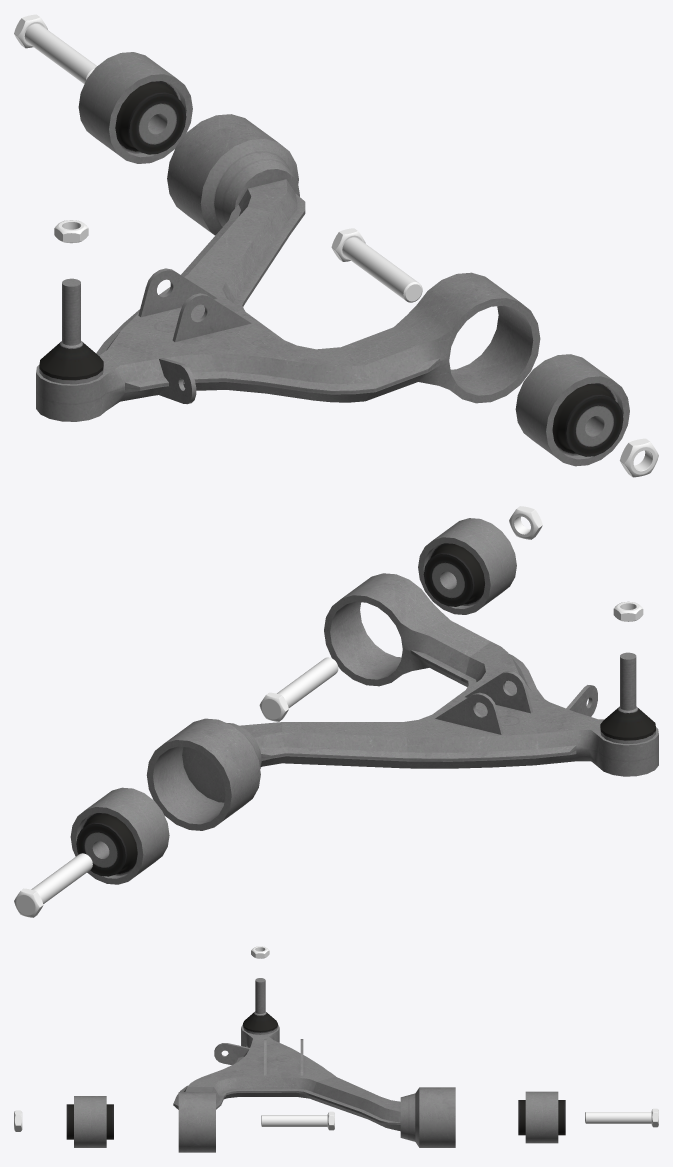
The model's file is conBot.glb.
3 views of the same model, one above another, from view 1: azimuth 30°, elevation 25°; view 2: azimuth 150°, elevation 25°; view 3: azimuth 270°, elevation 25° (orthographic). The views are drawn at different scales.
Visible parts, largest first — view 1: wahaczDol_double(0), tuleja_1(0), tuleja_1(3), srubaTuleje_1N, srubaTuleje_1, nakretkaTulejeMale_1, nakretkaDuza_1; view 2: wahaczDol_double(0), tuleja_1(0), tuleja_1(3), srubaTuleje_1, srubaTuleje_1N, nakretkaTulejeMale_1; view 3: wahaczDol_double(0), tuleja_1(3), tuleja_1(0), srubaTuleje_1, srubaTuleje_1N.
Boxes of the visible parts, bbox=[...] form: wahaczDol_double(0): bbox=[36, 114, 540, 421]; tuleja_1(0): bbox=[515, 354, 629, 466]; tuleja_1(3): bbox=[78, 52, 192, 163]; srubaTuleje_1N: bbox=[331, 228, 422, 302]; srubaTuleje_1: bbox=[14, 14, 96, 83]; nakretkaTulejeMale_1: bbox=[620, 438, 658, 477]; nakretkaDuza_1: bbox=[54, 220, 88, 243]; wahaczDol_double(0): bbox=[146, 573, 658, 830]; tuleja_1(0): bbox=[418, 518, 516, 614]; tuleja_1(3): bbox=[70, 787, 169, 884]; srubaTuleje_1: bbox=[14, 853, 92, 917]; srubaTuleje_1N: bbox=[259, 657, 338, 721]; nakretkaTulejeMale_1: bbox=[509, 506, 542, 539]; wahaczDol_double(0): bbox=[173, 978, 455, 1152]; tuleja_1(3): bbox=[518, 1091, 565, 1143]; tuleja_1(0): bbox=[66, 1096, 113, 1147]; srubaTuleje_1: bbox=[585, 1108, 658, 1127]; srubaTuleje_1N: bbox=[261, 1111, 334, 1130].
Bounding box in the file's own units: 0.00906 × 0.00418 × 0.0222.
3 materials, 2 textured.
